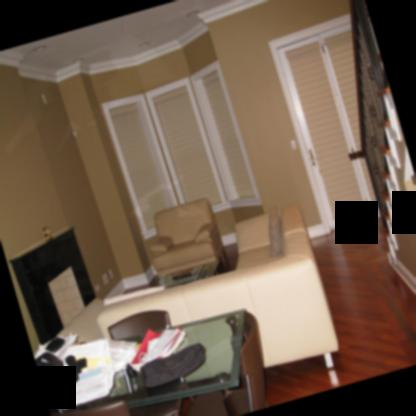backpack: (34, 353, 75, 412)
